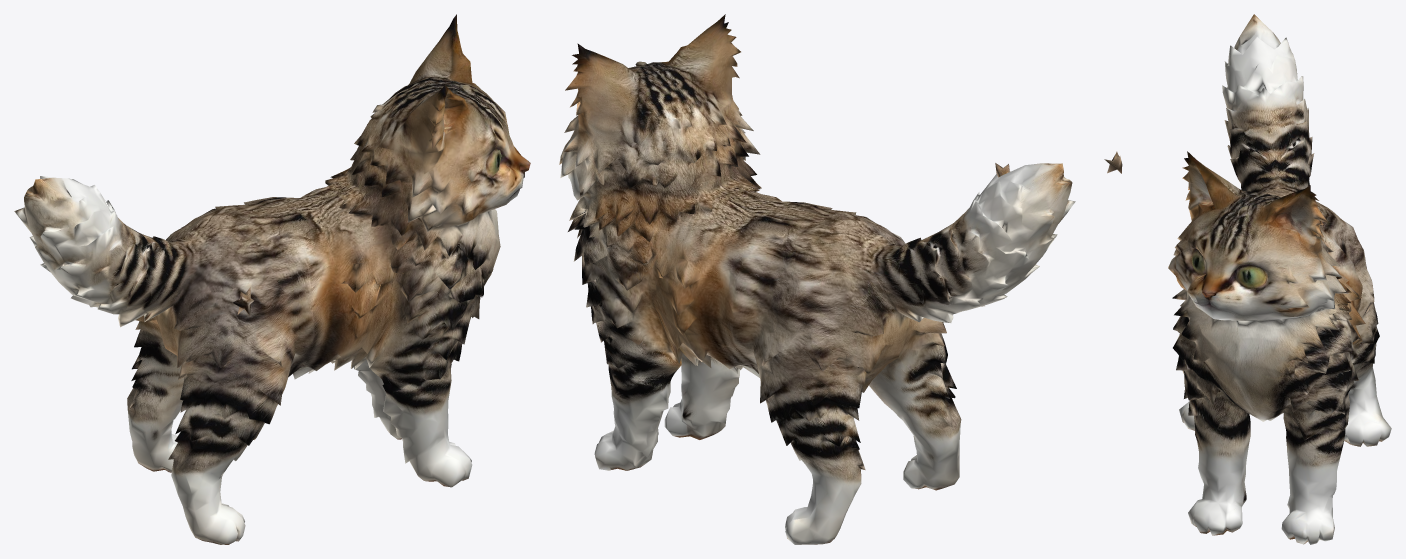
Rendered from COUCHCAP.glb.
3 views of the same model, side by side, from view 1: azimuth 30°, elevation 25°; view 2: azimuth 150°, elevation 25°; view 3: azimuth 270°, elevation 25° (orthographic). The views are drawn at different scales.
Visible parts, largest first — view 1: fit; view 2: fit; view 3: fit.
Part boxes in pixels (x1,y1,x2,y2): fit: [14, 14, 530, 544]; fit: [559, 14, 1075, 544]; fit: [1104, 14, 1391, 544].
Size of the model in its own units: 1.24 by 1 by 0.702.
1 material, 1 textured.
